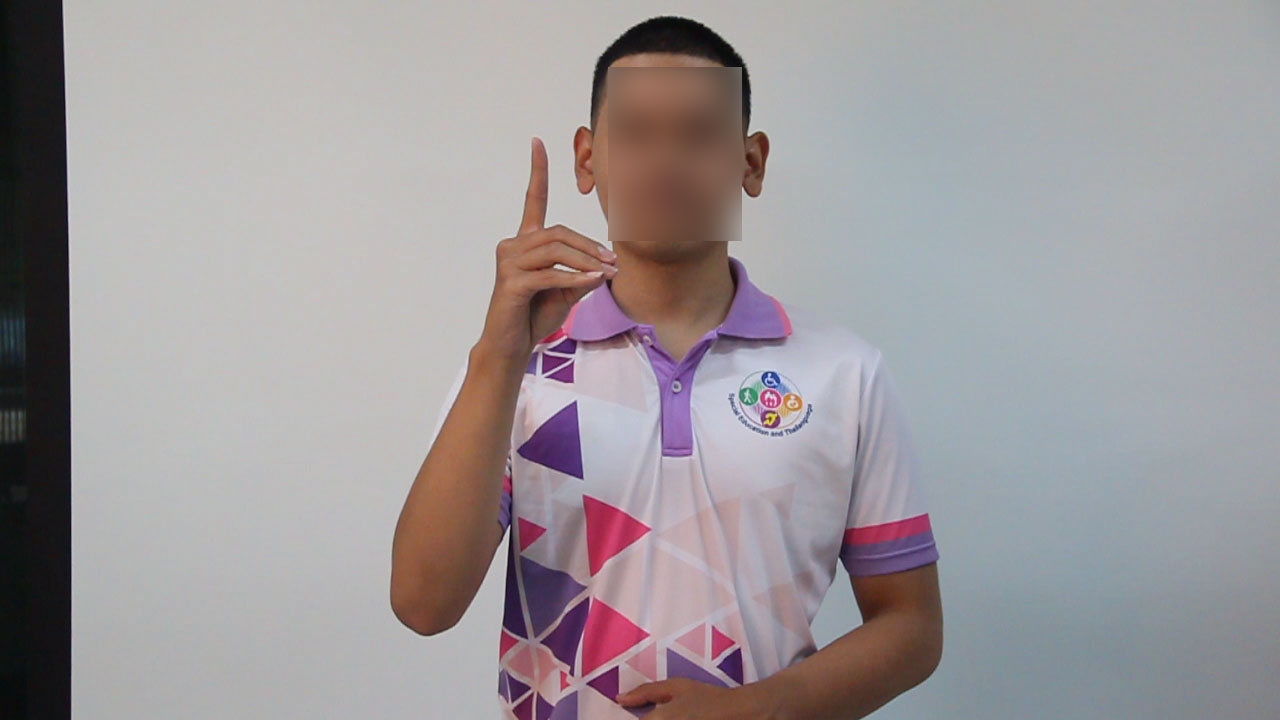dor: (460, 129, 626, 372)
